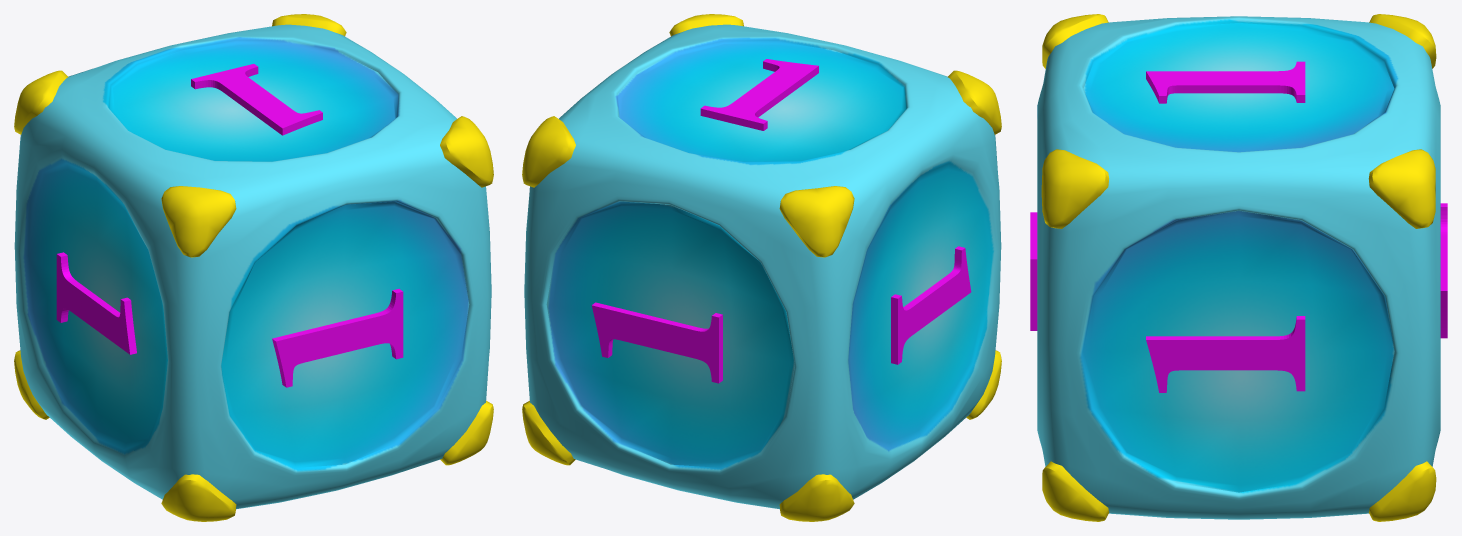
File: Dice1.fbx
3 views of the same model, side by side, from view 1: azimuth 30°, elevation 25°; view 2: azimuth 150°, elevation 25°; view 3: azimuth 270°, elevation 25° (orthographic). The views are drawn at different scales.
Visible parts, largest first — view 1: Cube.002, acessery, Text6_01, Text2_01, Text3_01; view 2: Cube.002, acessery, Text5_01, Text2_01, Text3_01; view 3: Cube.002, acessery, Text4_01, Text3_01, Text5_01, Text6_01.
Part boxes in pixels (bbox=[...]): Cube.002: bbox=[14, 24, 491, 509]; acessery: bbox=[14, 14, 493, 521]; Text6_01: bbox=[272, 289, 403, 387]; Text2_01: bbox=[56, 252, 136, 354]; Text3_01: bbox=[191, 64, 322, 135]; Cube.002: bbox=[524, 24, 1001, 509]; acessery: bbox=[522, 14, 1001, 521]; Text5_01: bbox=[591, 302, 722, 383]; Text2_01: bbox=[891, 246, 971, 364]; Text3_01: bbox=[700, 59, 818, 130]; Cube.002: bbox=[1037, 16, 1440, 519]; acessery: bbox=[1041, 14, 1436, 521]; Text4_01: bbox=[1146, 316, 1305, 392]; Text3_01: bbox=[1146, 61, 1305, 103]; Text5_01: bbox=[1440, 203, 1447, 338]; Text6_01: bbox=[1030, 212, 1037, 330].
Size of the model in its own units: 203 by 203 by 203.
